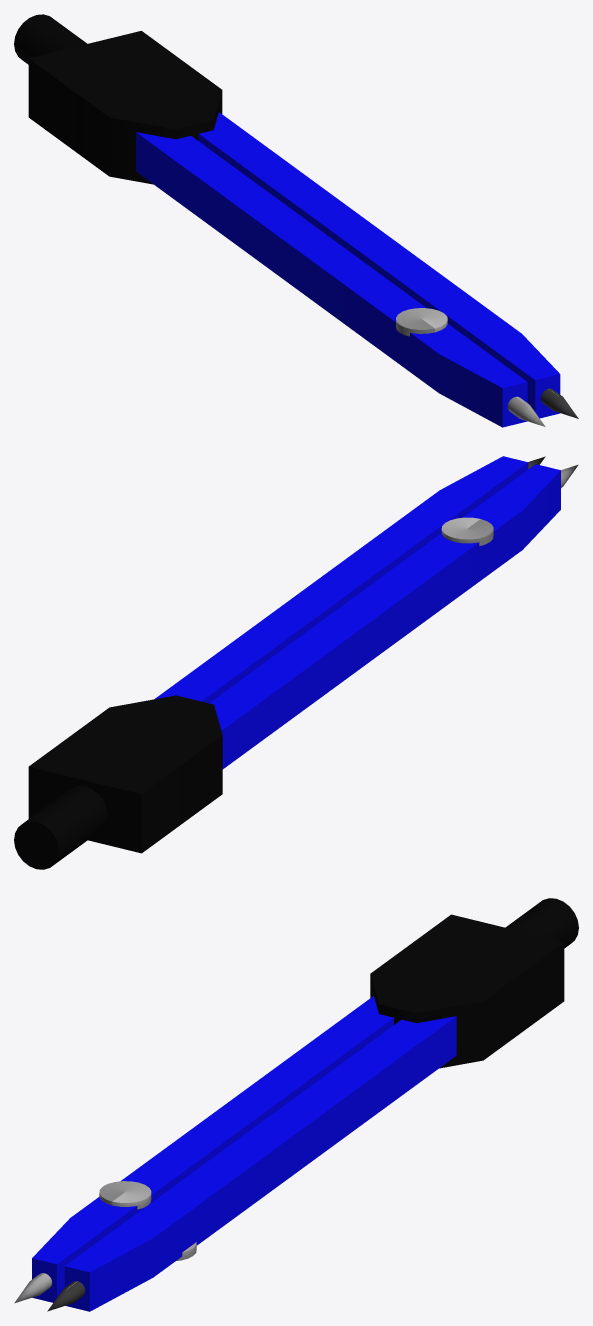
The model's file is stationery_04.glb.
The picture shows the model from 3 angles, top to bottom: view 1: azimuth 30°, elevation 25°; view 2: azimuth 150°, elevation 25°; view 3: azimuth 330°, elevation 25°; orthographic projection.
Visible parts, largest first — view 1: obj3; view 2: obj3; view 3: obj3.
Boxes of the visible parts, x1,y1,x2,y2 form: obj3: (14, 14, 578, 427); obj3: (14, 456, 578, 869); obj3: (14, 898, 578, 1311).
Bounding box in the file's own units: 1.5 × 0.75 × 12.08.
Materials: 1 (1 with a texture image).
